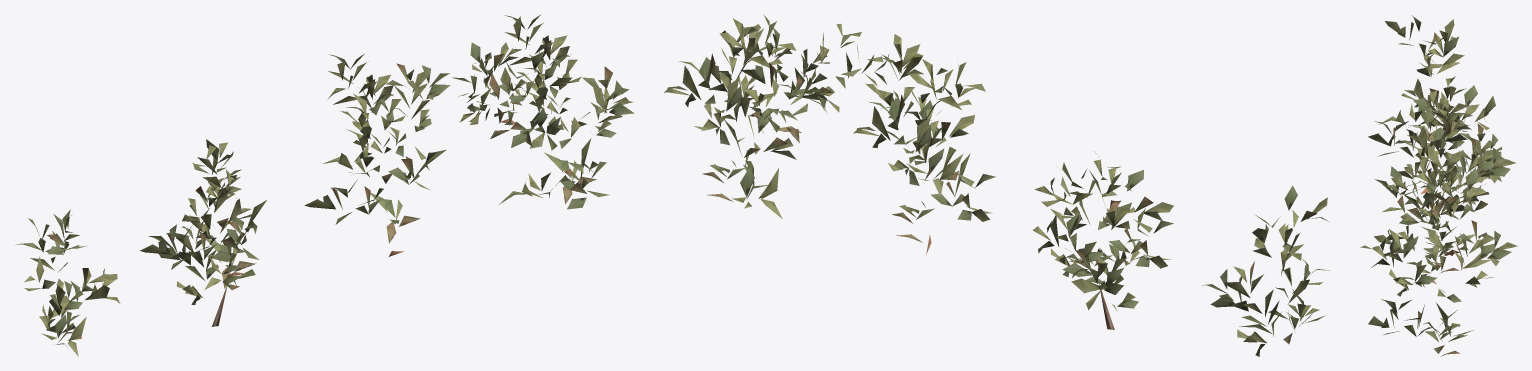
Rendered from shrub_04.glb.
The picture shows the model from 3 angles, left to right: view 1: azimuth 30°, elevation 25°; view 2: azimuth 150°, elevation 25°; view 3: azimuth 270°, elevation 25°; orthographic projection. The views are drawn at different scales.
Parts seen in each view (by area): view 1: shrub_04; view 2: shrub_04; view 3: shrub_04.
Boxes of the visible parts, x1,y1,x2,y2 form: shrub_04: [15, 14, 633, 356]; shrub_04: [664, 14, 1329, 356]; shrub_04: [1360, 15, 1517, 356].
Size of the model in its own units: 0.5837 by 0.2117 by 0.1461.
Materials: 1 (1 with a texture image).
